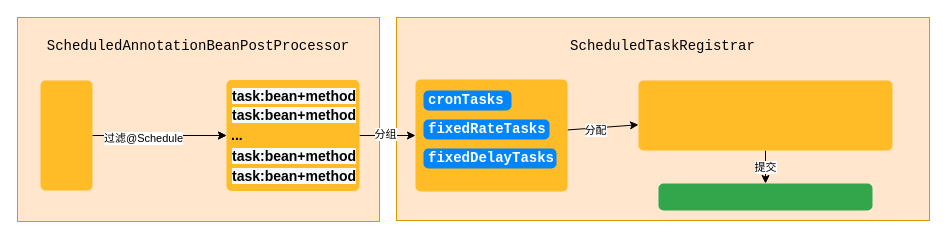
Some shapes in this 947 by 239 pixel diagram are drawn without their labels. The shapes that lost their labels are listed below. From the top down, each one's centre as x and y in pixels, then its label:
At point (66, 135): "bean bean bean bean bean ...".
At point (765, 115): "适配器ConcurrentTaskScheduler".
At point (765, 196): "ScheduledExecutorService".
